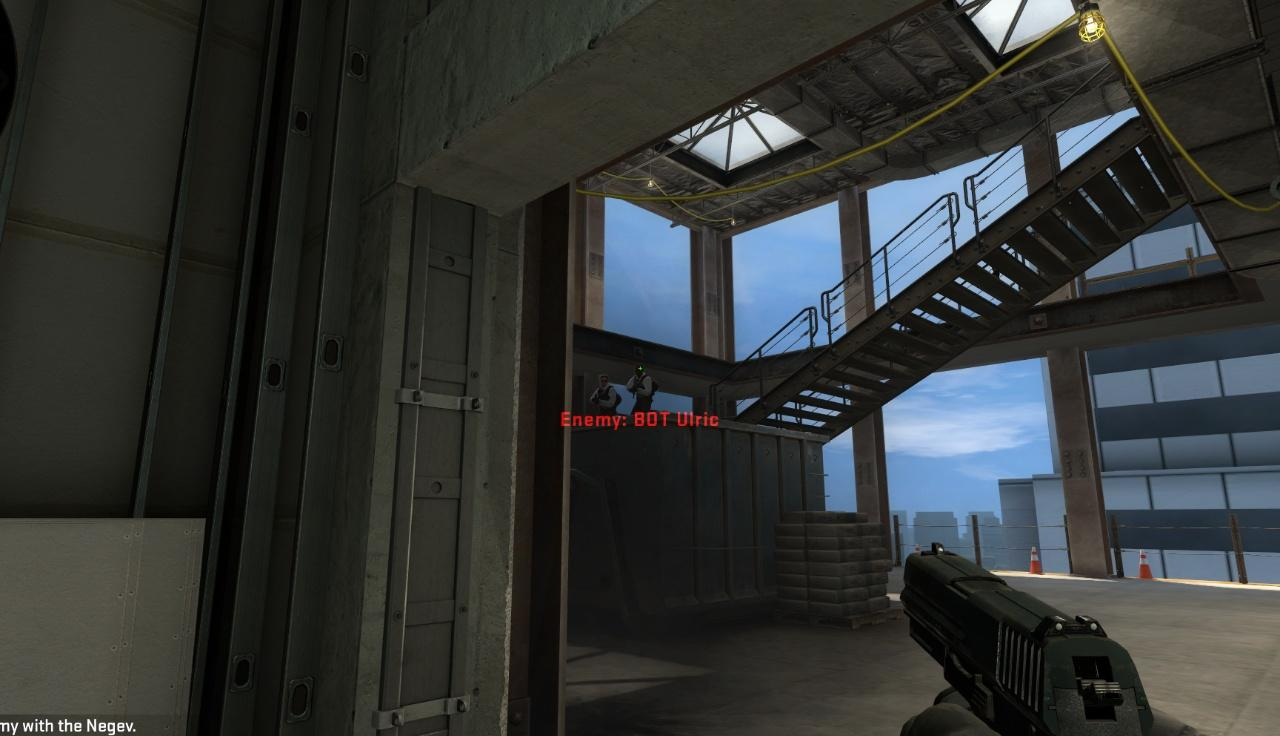pistol: (893, 538, 1163, 736)
tt: (630, 364, 653, 412), (594, 374, 618, 415)
tthead: (599, 375, 608, 388), (634, 366, 643, 376)
